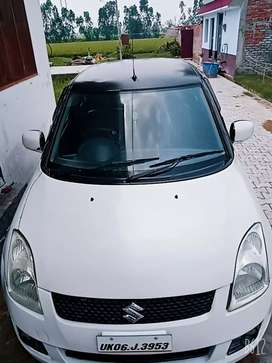UK06J3953: (96, 334, 173, 353)
